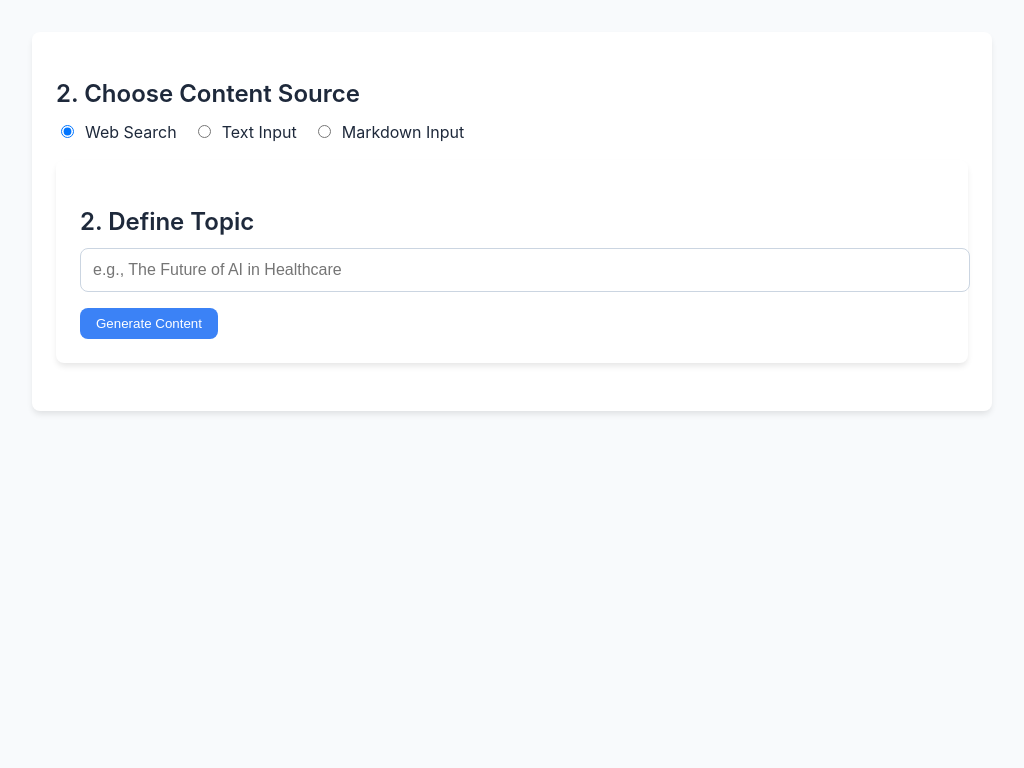
it: ContentInput - Error Display › Structured Syntax Error Display › displays line and column information correctly
The image size is (1024, 768).
Click the radio button labelled "Markdown Input" at point(324, 131), box x1=318 y1=125 x2=331 y2=138
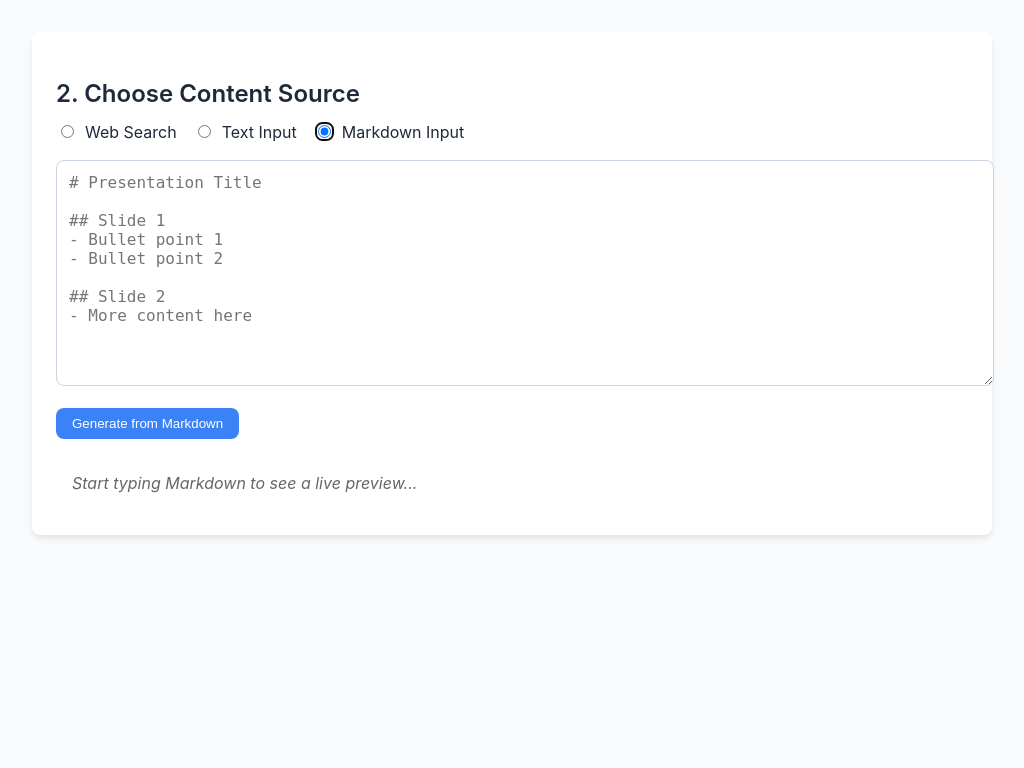
Type "test" into the text box with placeholder "# Presentation Title" at point(525, 273), box x1=56 y1=160 x2=994 y2=386
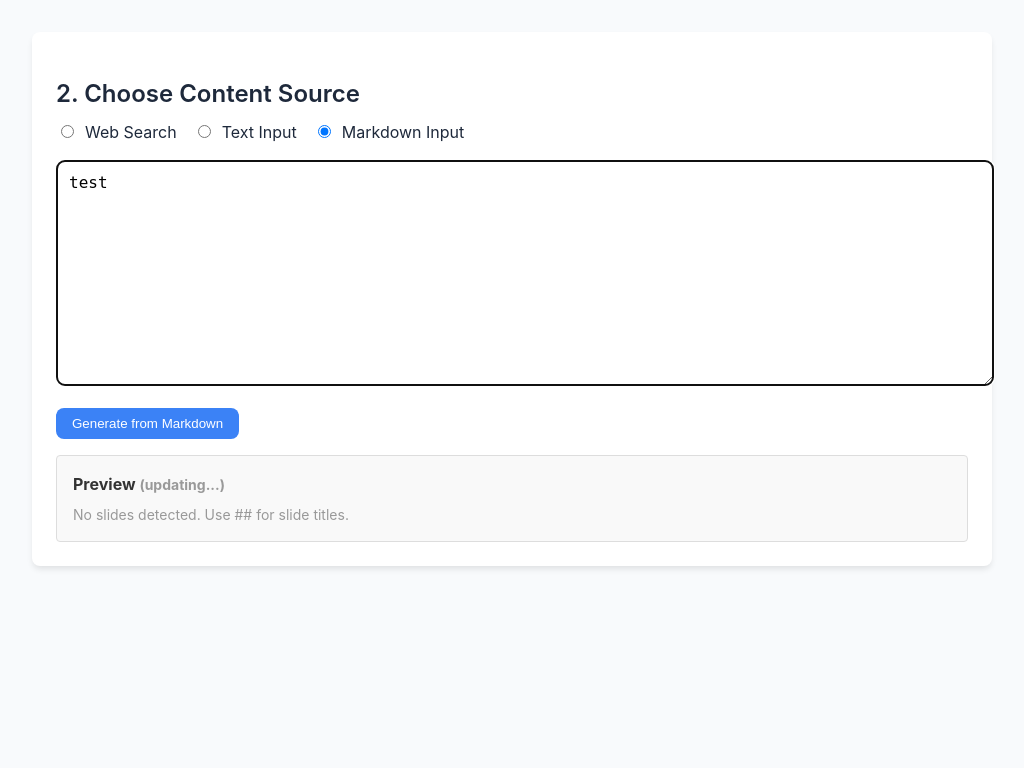
Click the button "Generate from Markdown" at point(148, 423), box x1=56 y1=408 x2=239 y2=439
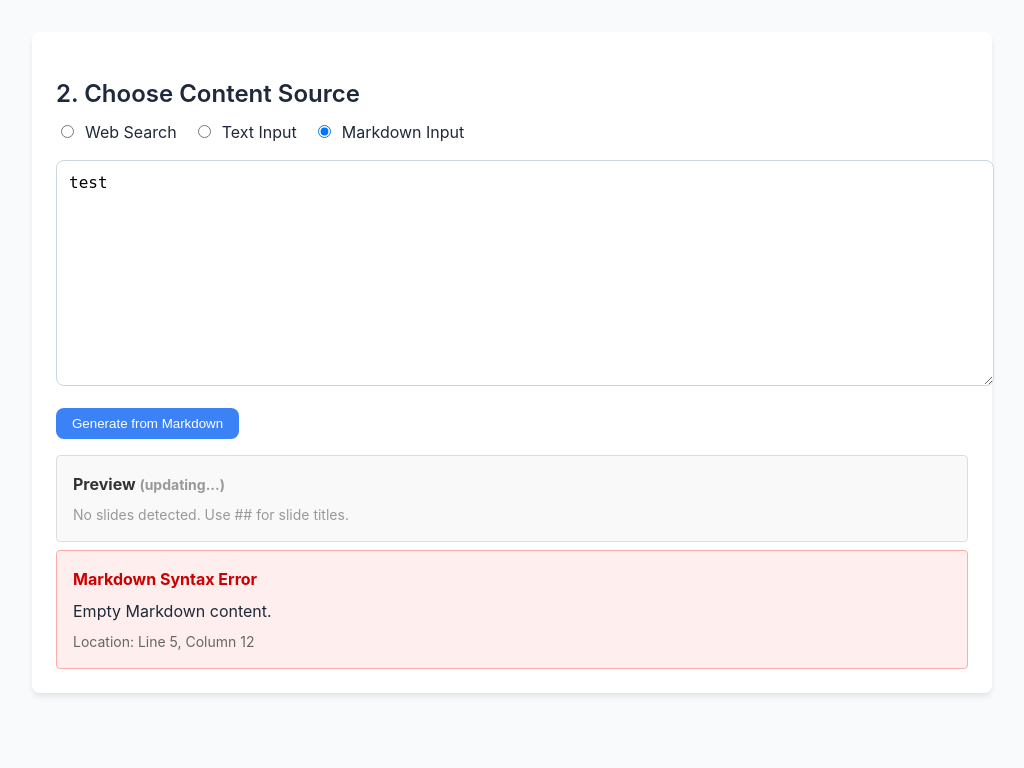
expect the text "Location: Line 5, Column 12" is shown: met, box x1=73 y1=633 x2=254 y2=650
